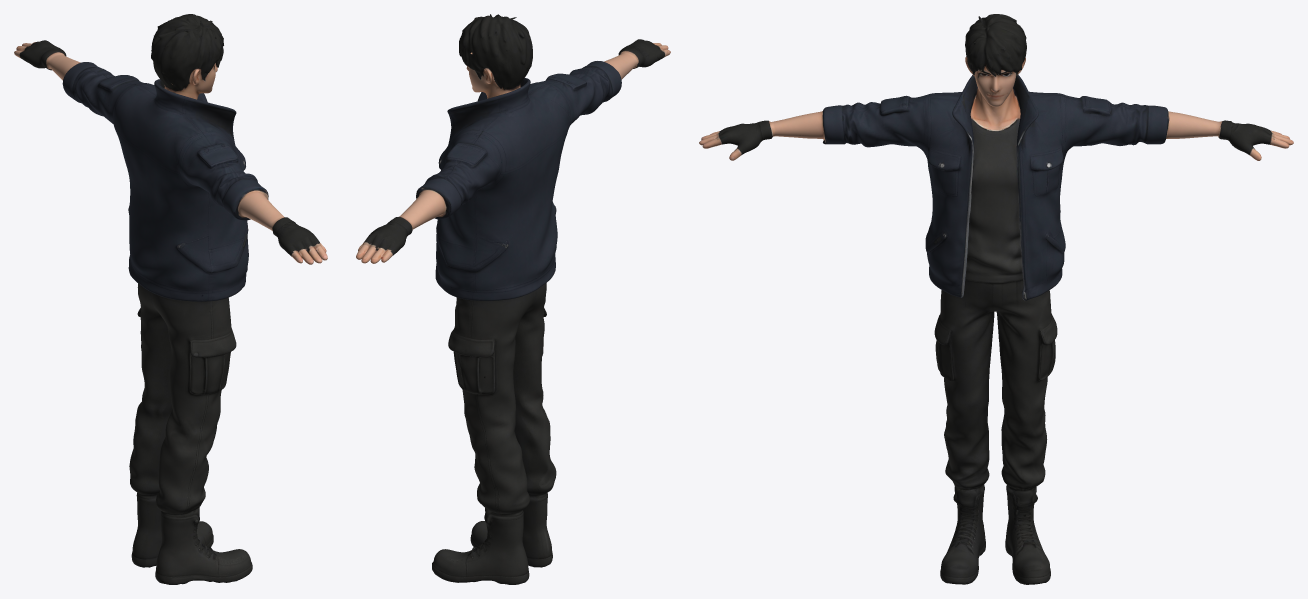
The model's file is tripo_convert_ed15e853-4741-4fb3-95a4-4d7840d41655.fbx.
The picture shows the model from 3 angles, left to right: view 1: azimuth 30°, elevation 25°; view 2: azimuth 150°, elevation 25°; view 3: azimuth 270°, elevation 25°; orthographic projection.
Parts seen in each view (by area): view 1: tripo_node_ed15e853; view 2: tripo_node_ed15e853; view 3: tripo_node_ed15e853.
Part boxes in pixels (x1,y1,x2,y2): tripo_node_ed15e853: [14, 14, 327, 584]; tripo_node_ed15e853: [356, 14, 670, 584]; tripo_node_ed15e853: [699, 14, 1293, 584].
Size of the model in its own units: 0.1721 by 0.9765 by 0.953.
1 material, 1 textured.
